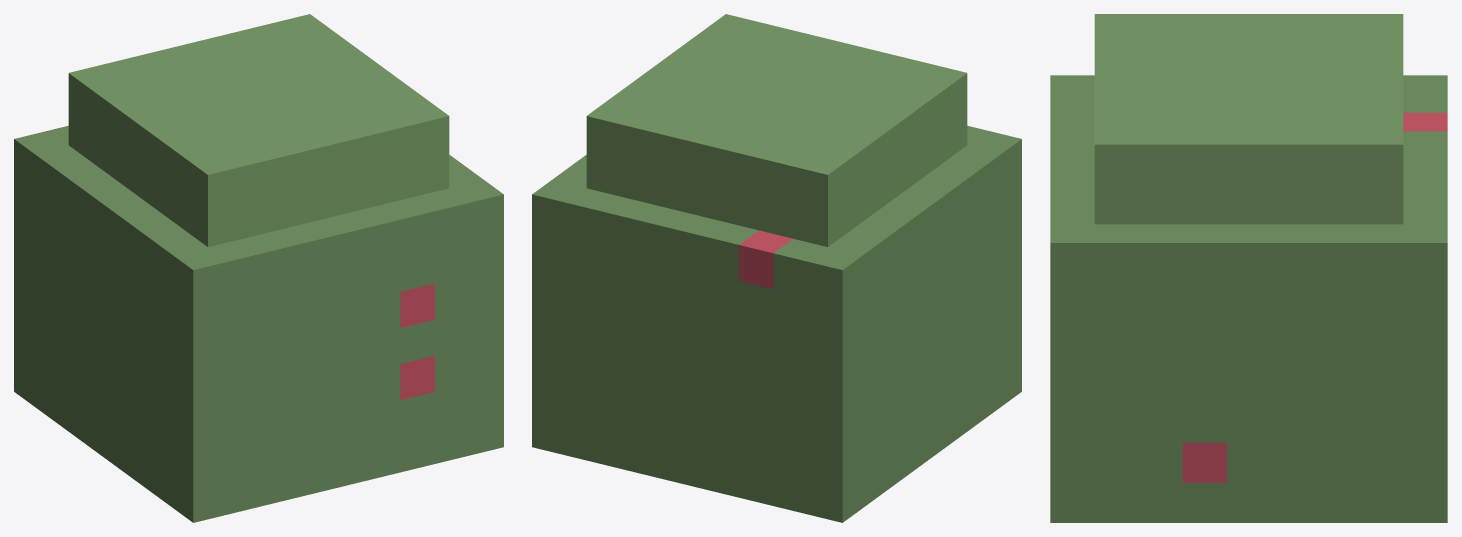
Rendered from fresa_silvestre_02.glb.
3 views of the same model, side by side, from view 1: azimuth 30°, elevation 25°; view 2: azimuth 150°, elevation 25°; view 3: azimuth 270°, elevation 25° (orthographic). The views are drawn at different scales.
Parts seen in each view (by area): view 1: fresa_silvestre_02; view 2: fresa_silvestre_02; view 3: fresa_silvestre_02.
Part boxes in pixels (box(x1,y1,x2,y2)): fresa_silvestre_02: box(14, 14, 503, 522); fresa_silvestre_02: box(532, 14, 1021, 522); fresa_silvestre_02: box(1050, 14, 1447, 522).
Size of the model in its own units: 0.9 by 0.9 by 0.9.
